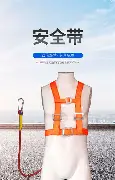safety belt: (42, 81, 95, 140)
